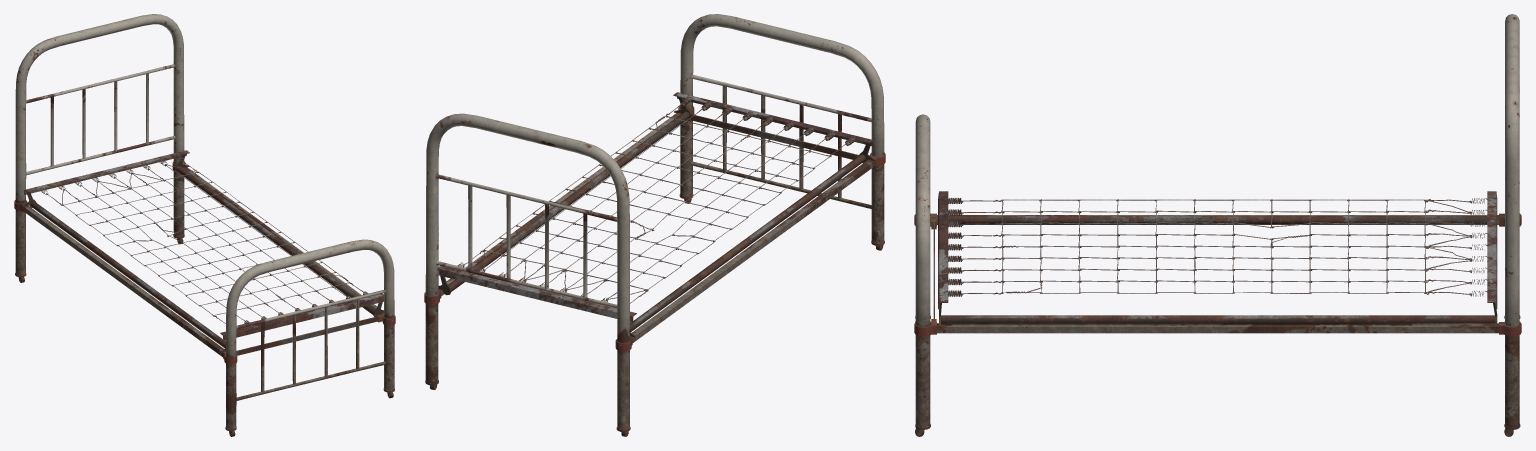
File: old_bed_frame.glb
3 renders of one model, left to right at view 1: azimuth 30°, elevation 25°; view 2: azimuth 150°, elevation 25°; view 3: azimuth 270°, elevation 25°, orthographic. The views are drawn at different scales.
Parts seen in each view (by area): view 1: old_bed_frame; view 2: old_bed_frame; view 3: old_bed_frame.
Part boxes in pixels (x1=…): old_bed_frame: x1=14, y1=14, x2=395, y2=436; old_bed_frame: x1=424, y1=14, x2=885, y2=436; old_bed_frame: x1=914, y1=14, x2=1521, y2=436.
Size of the model in its own units: 0.9047 by 1.2 by 2.
Materials: 1 (1 with a texture image).
